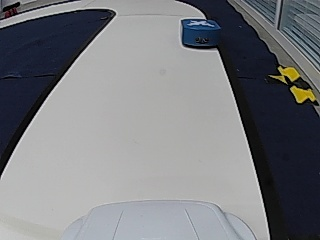prop: (181, 19, 221, 49)
